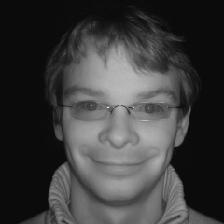happy: (37, 6, 211, 209)
